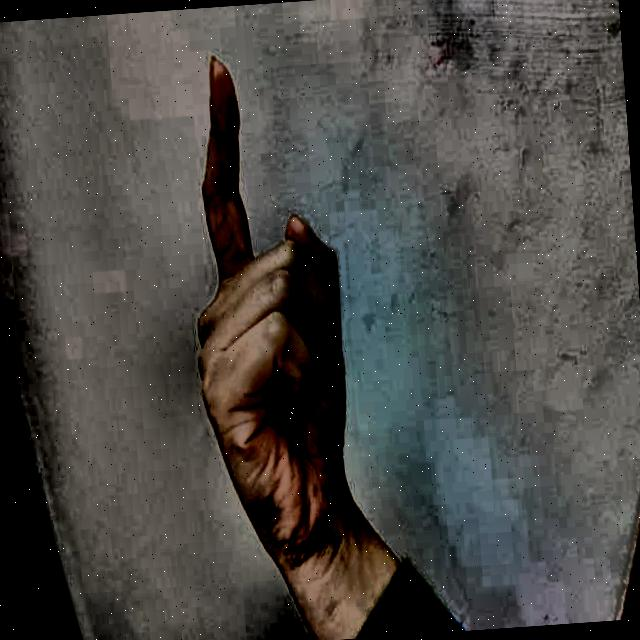U: (162, 29, 390, 567)
